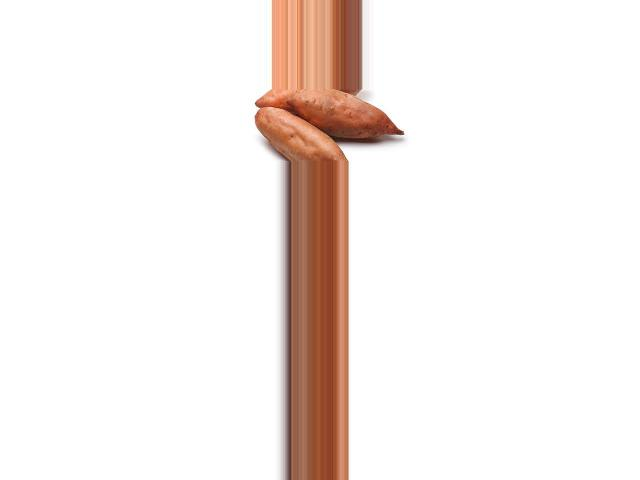sweet_potato: (254, 108, 353, 162)
